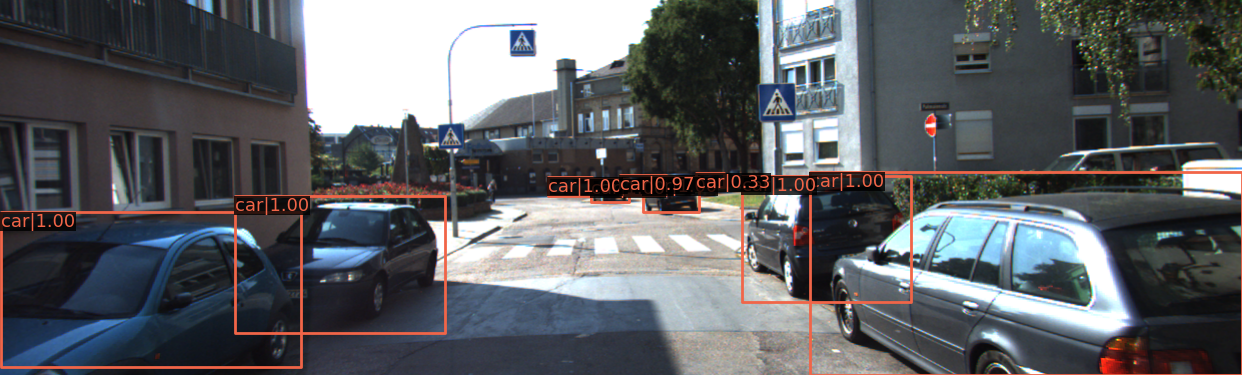car: (821, 185, 1242, 375), (1, 213, 303, 375), (225, 199, 441, 328), (742, 176, 919, 295), (1020, 139, 1235, 227), (646, 177, 698, 214), (590, 181, 629, 203), (550, 178, 594, 197)
